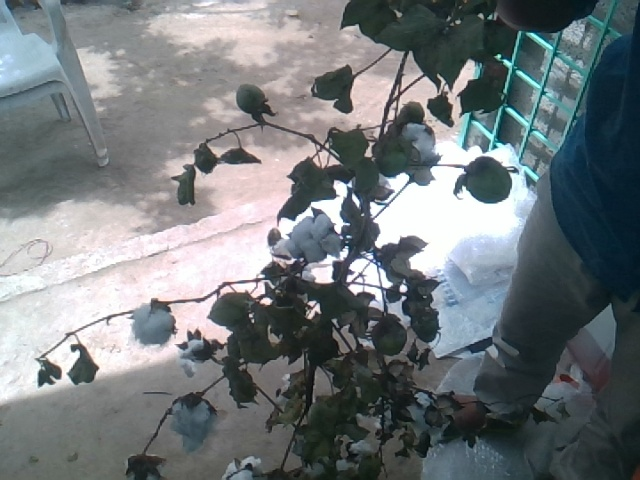cotton: (289, 214, 342, 261), (171, 398, 215, 450), (128, 303, 173, 341)
